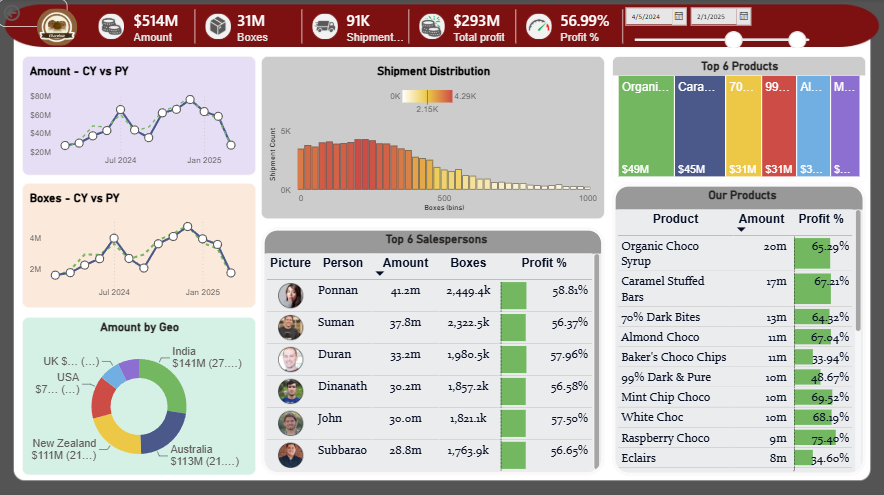

This screenshot's page, from the dashboard's own definition file:
{"tool":"powerbi","page":{"name":"Chocolate Brand Report Dashboard","canvas":[1280,720],"ordinal":8},"visuals":[{"type":"lineChart","title":"Amount - CY vs PY","fields":{"Y":["shipments.Total Amount","shipments.total amount last year"],"Category":["calendar.Start of Month"]},"box":[33.8,81.5,336.9,172.3],"z":0},{"type":"lineChart","title":"Boxes - CY vs PY","fields":{"Y":["shipments.total boxes last year","shipments.total box"],"Category":["calendar.Start of Month"]},"box":[33.8,264.6,336.9,180],"z":1000},{"type":"donutChart","fields":{"Category":["locations.Geo"],"Y":["shipments.Total Amount"]},"box":[33.8,458.5,336.9,227.7],"z":2000},{"type":"clusteredColumnChart","title":"Shipment Distribution","fields":{"Category":["shipments.Boxes (bins)"],"Y":["shipments.SHIPMENTNO"]},"box":[378.5,81.5,495.4,235.4],"z":3000},{"type":"actionButton","box":[0,0,100,40],"z":4000},{"type":"tableEx","title":"Top 6 Salespersons","fields":{"Values":["people.Picture","people.first_name","shipments.Total Amount","shipments.total box","shipments.PROFIT PERCENTAGE"]},"box":[378.5,327.7,495.4,358.5],"z":5000},{"type":"treemap","title":"Top 6 Products","fields":{"Values":["shipments.Amount."],"Group":["products.Product"]},"box":[884.6,81.5,366.2,183.1],"z":6000},{"type":"tableEx","title":"Our Products","fields":{"Values":["products.Product","shipments.Amount.","shipments.Profit %"]},"box":[884.6,264.6,366.2,421.5],"z":7000},{"type":"cardVisual","fields":{"Data":["shipments.Amount.","shipments.total box","shipments.SHIPMENTNO","shipments.TOTAL PROFIT","shipments.Profit %"]},"box":[131.8,12.7,773.6,53.6],"z":8000},{"type":"slicer","fields":{"Values":["calendar.cal_date"]},"box":[895.7,7.1,288.6,64.3],"z":9000},{"type":"image","box":[56.2,12.3,57.7,54.6],"z":10000}]}

Visuals, with their boxes in screenshot pixels (x1, y1, x2, y2), scaled from the page's 1280x720 canvas onto the 884x495 screenshot:
"Amount - CY vs PY" lineChart: 23, 56, 256, 174
"Boxes - CY vs PY" lineChart: 23, 182, 256, 306
donutChart - locations.Geo x shipments.Total Amount: 23, 315, 256, 472
"Shipment Distribution" clusteredColumnChart: 261, 56, 604, 218
actionButton: 0, 0, 69, 28
"Top 6 Salespersons" tableEx: 261, 225, 604, 472
"Top 6 Products" treemap: 611, 56, 864, 182
"Our Products" tableEx: 611, 182, 864, 472
cardVisual - shipments.Amount. x shipments.total box: 91, 9, 625, 46
slicer - calendar.cal_date: 619, 5, 818, 49
image: 39, 8, 79, 46
